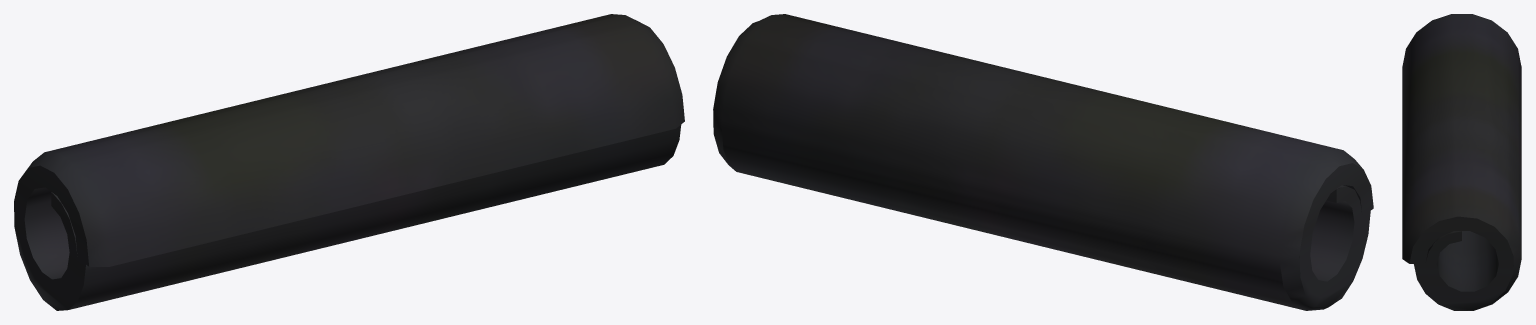
Rendered from Spring_Pin.dae.
3 renders of one model, left to right at view 1: azimuth 30°, elevation 25°; view 2: azimuth 150°, elevation 25°; view 3: azimuth 270°, elevation 25°, orthographic. The views are drawn at different scales.
Parts seen in each view (by area): view 1: Spring_Pin; view 2: Spring_Pin; view 3: Spring_Pin.
Part boxes in pixels (x1,y1,x2,y2): Spring_Pin: [14, 14, 684, 310]; Spring_Pin: [713, 14, 1373, 310]; Spring_Pin: [1402, 14, 1521, 310].
Size of the model in its own units: 0.0124 by 0.0031 by 0.00291.
1 material, 1 textured.
